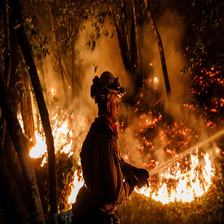fire: (19, 90, 85, 213), (128, 132, 215, 211)
